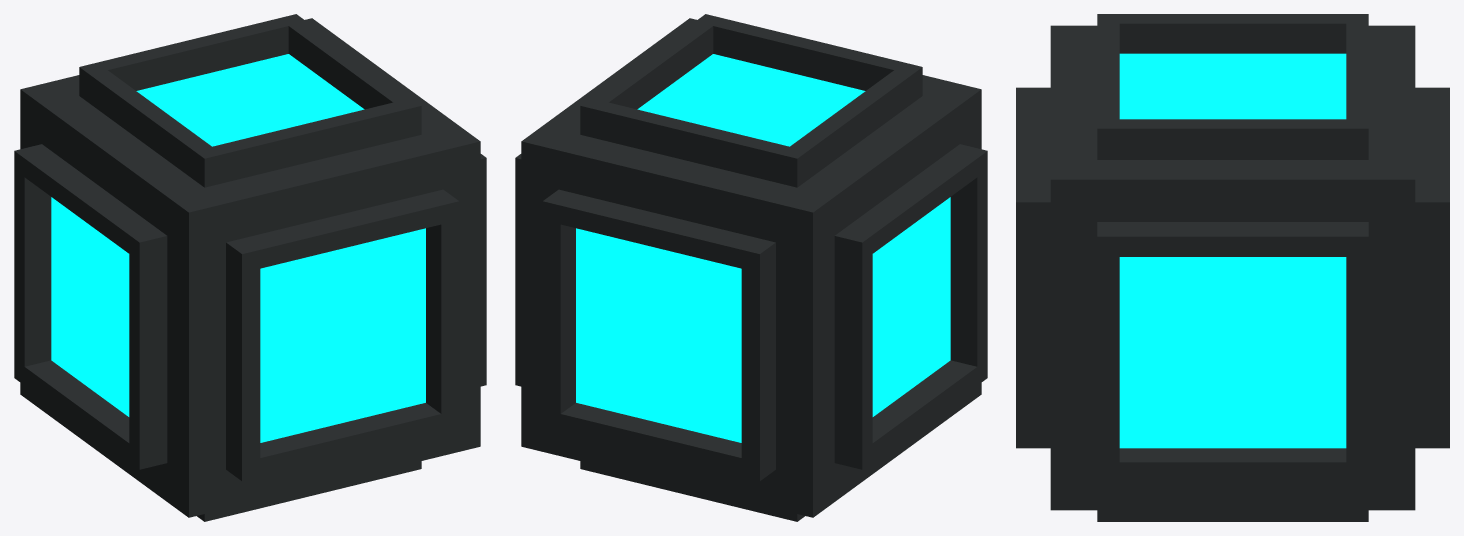
Rendered from base_item.glb.
The picture shows the model from 3 angles, left to right: view 1: azimuth 30°, elevation 25°; view 2: azimuth 150°, elevation 25°; view 3: azimuth 270°, elevation 25°; orthographic projection. The views are drawn at different scales.
Parts seen in each view (by area): view 1: Cube; view 2: Cube; view 3: Cube.
Part boxes in pixels (x1=…): Cube: x1=14, y1=14, x2=486, y2=521; Cube: x1=515, y1=14, x2=987, y2=521; Cube: x1=1016, y1=14, x2=1449, y2=521.
Size of the model in its own units: 1.19 by 1.19 by 1.19.
